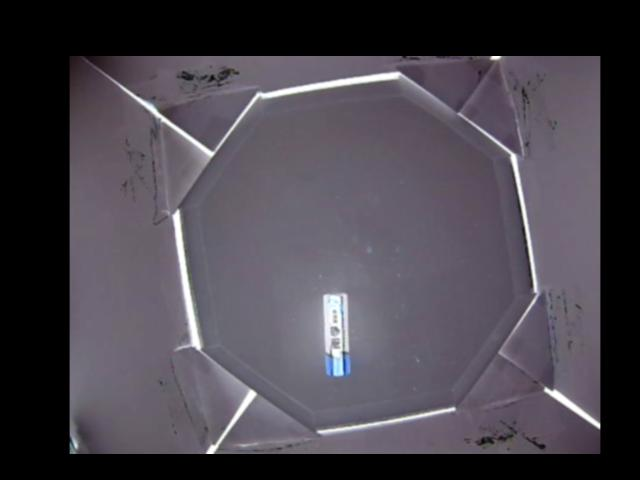Battery: (324, 292, 349, 380)
